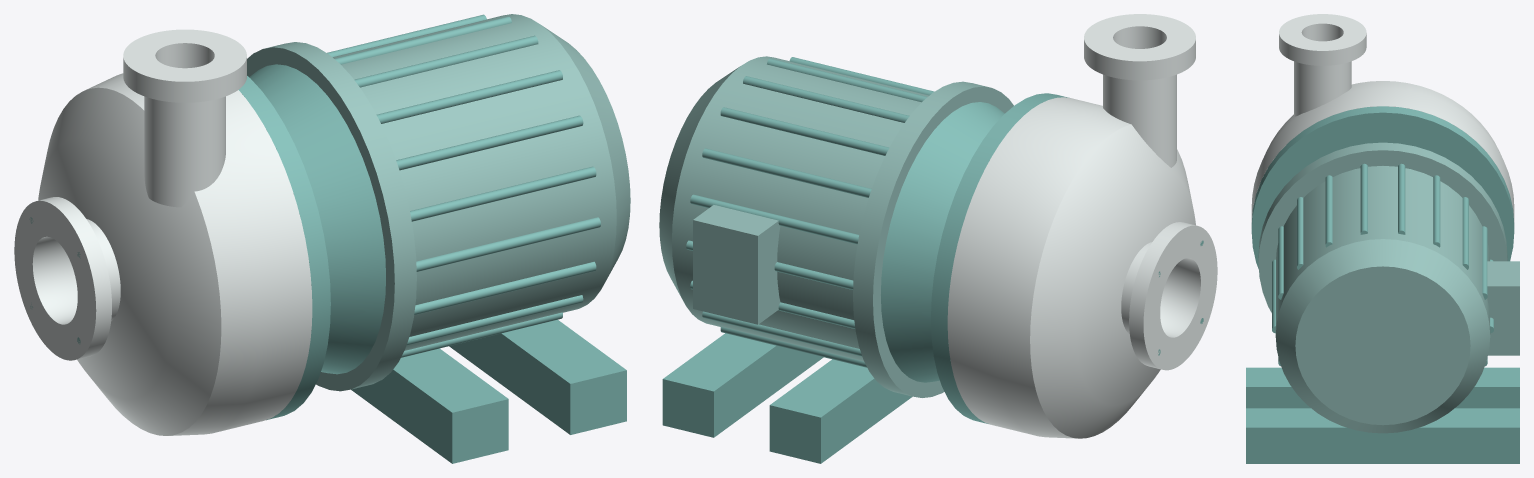
The picture shows the model from 3 angles, left to right: view 1: azimuth 30°, elevation 25°; view 2: azimuth 150°, elevation 25°; view 3: azimuth 270°, elevation 25°; orthographic projection. The views are drawn at different scales.
Parts seen in each view (by area): view 1: 泵体_圆弧壳与轴向进液口, 电机_带筋机壳, 支脚_电机底脚 (×2), 连接座_短连接段, 电机_连接法兰, 接口_偏置竖向出液管, 接口_朝上出液法兰, 连接座_泵壳连接环, 电机_圆弧尾罩, 电机_散热筋09, 电机_散热筋08, 电机_散热筋10 (+7 smaller); view 2: 泵体_圆弧壳与轴向进液口, 电机_带筋机壳, 支脚_电机底脚 (×2), 连接座_短连接段, 电机_连接法兰, 电机_接线盒, 接口_朝上出液法兰, 连接座_泵壳连接环, 接口_偏置竖向出液管, 电机_圆弧尾罩, 电机_散热筋03, 电机_散热筋04 (+8 smaller); view 3: 电机_圆弧尾罩, 支脚_电机底脚 (×2), 电机_带筋机壳, 连接座_泵壳连接环, 电机_连接法兰, 泵体_圆弧壳与轴向进液口, 接口_朝上出液法兰, 电机_接线盒, 接口_偏置竖向出液管, 电机_散热筋04, 电机_散热筋07, 电机_散热筋05 (+6 smaller).
Boxes of the visible parts, <box> form: 泵体_圆弧壳与轴向进液口: <box>14,73,312,435</box>; 电机_带筋机壳: <box>333,14,616,350</box>; 支脚_电机底脚 (×2): <box>351,319,626,463</box>; 连接座_短连接段: <box>249,64,385,374</box>; 电机_连接法兰: <box>247,42,416,391</box>; 接口_偏置竖向出液管: <box>144,64,225,207</box>; 接口_朝上出液法兰: <box>123,29,246,102</box>; 连接座_泵壳连接环: <box>239,76,330,420</box>; 电机_圆弧尾罩: <box>543,26,630,283</box>; 电机_散热筋09: <box>410,166,596,221</box>; 电机_散热筋08: <box>396,115,583,170</box>; 电机_散热筋10: <box>416,217,600,271</box>; 泵体_圆弧壳与轴向进液口: <box>947,97,1217,438</box>; 电机_带筋机壳: <box>672,56,929,361</box>; 支脚_电机底脚 (×2): <box>662,333,912,463</box>; 连接座_短连接段: <box>881,102,1004,382</box>; 电机_连接法兰: <box>853,81,1013,397</box>; 电机_接线盒: <box>693,205,780,324</box>; 接口_朝上出液法兰: <box>1084,14,1195,80</box>; 连接座_泵壳连接环: <box>931,93,1069,423</box>; 接口_偏置竖向出液管: <box>1103,45,1176,167</box>; 电机_圆弧尾罩: <box>659,67,738,303</box>; 电机_散热筋03: <box>702,148,871,197</box>; 电机_散热筋04: <box>720,107,889,155</box>; 电机_圆弧尾罩: <box>1275,239,1490,433</box>; 支脚_电机底脚 (×2): <box>1246,367,1519,463</box>; 电机_带筋机壳: <box>1275,166,1490,334</box>; 连接座_泵壳连接环: <box>1251,106,1514,269</box>; 电机_连接法兰: <box>1258,142,1507,312</box>; 泵体_圆弧壳与轴向进液口: <box>1251,81,1514,221</box>; 接口_朝上出液法兰: <box>1279,14,1366,65</box>; 电机_接线盒: <box>1487,261,1519,355</box>; 接口_偏置竖向出液管: <box>1294,38,1351,116</box>; 电机_散热筋04: <box>1433,175,1440,247</box>; 电机_散热筋07: <box>1325,175,1332,247</box>; 电机_散热筋05: <box>1398,163,1405,234</box>.
Size of the model in its own units: 0.4598 by 0.36 by 0.3.
